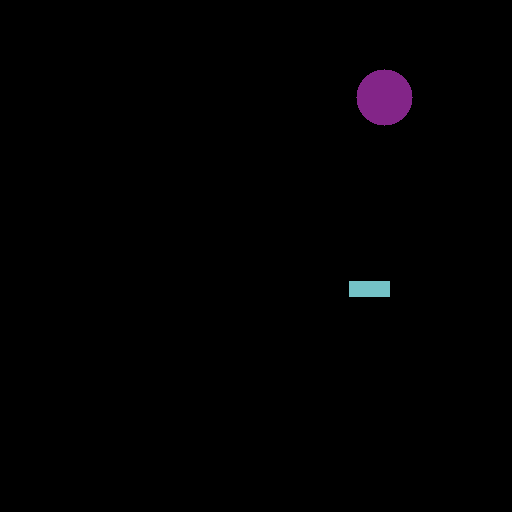circle: (351, 62, 417, 131)
side_rect: (345, 272, 393, 302)
